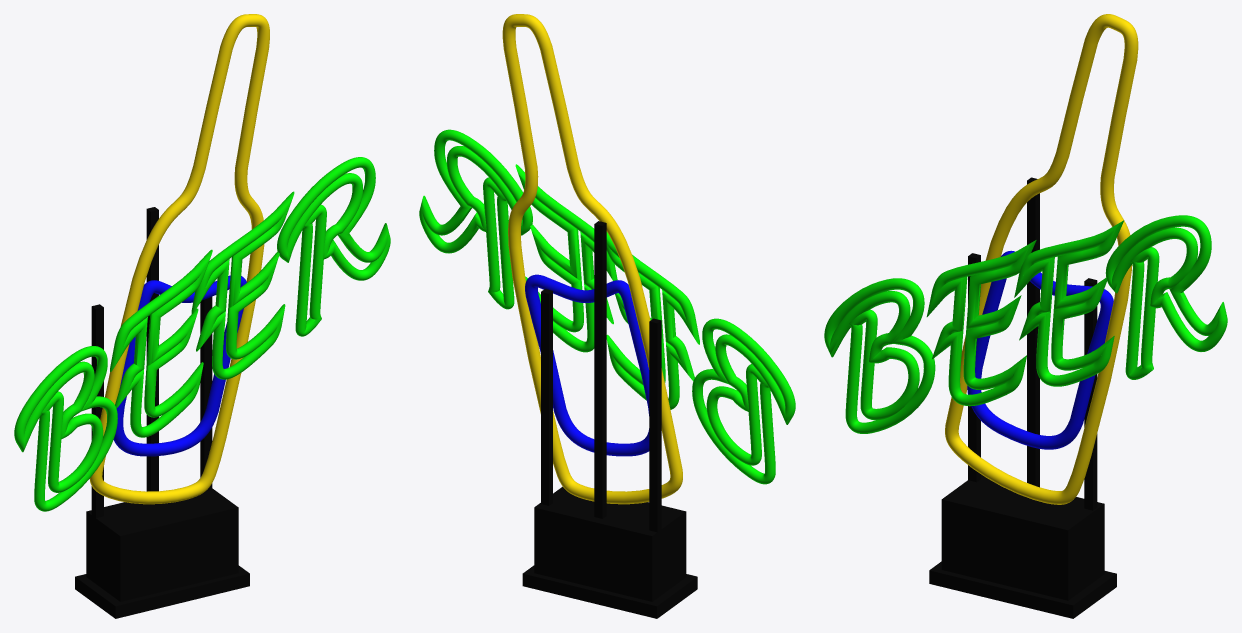
File: Beer_Neon_Sign.fbx
The picture shows the model from 3 angles, left to right: view 1: azimuth 30°, elevation 25°; view 2: azimuth 150°, elevation 25°; view 3: azimuth 330°, elevation 25°; orthographic projection. The views are drawn at different scales.
Visible parts, largest first — view 1: Sweep_NURBS, Cube, Sweep_NURBS_2, Sweep_NURBS_1, Cube_4, Cube_1, Cube_2, Cube_3; view 2: Sweep_NURBS, Sweep_NURBS_2, Cube, Sweep_NURBS_1, Cube_1, Cube_4, Cube_3, Cube_2; view 3: Sweep_NURBS, Cube, Sweep_NURBS_2, Sweep_NURBS_1, Cube_4, Cube_1, Cube_2, Cube_3.
Part boxes in pixels (x1,y1,x2,y2): Sweep_NURBS: (14, 157, 390, 511); Cube: (86, 488, 238, 601); Sweep_NURBS_2: (89, 14, 269, 504); Sweep_NURBS_1: (113, 275, 246, 456); Cube_4: (75, 565, 249, 618); Cube_1: (146, 207, 158, 504); Cube_2: (200, 296, 212, 491); Cube_3: (91, 304, 103, 556); Sweep_NURBS: (419, 129, 795, 484); Sweep_NURBS_2: (502, 14, 682, 504); Cube: (534, 486, 686, 601); Sweep_NURBS_1: (525, 274, 649, 456); Cube_1: (594, 221, 606, 518); Cube_4: (522, 565, 697, 618); Cube_3: (649, 318, 661, 570); Cube_2: (541, 289, 552, 505); Sweep_NURBS: (824, 215, 1227, 433); Cube: (941, 474, 1104, 600); Sweep_NURBS_2: (945, 14, 1138, 504); Sweep_NURBS_1: (967, 250, 1113, 449); Cube_4: (929, 561, 1116, 618); Cube_1: (1027, 177, 1039, 487); Cube_2: (1084, 278, 1097, 510); Cube_3: (968, 253, 980, 482).
Bounding box in the file's own units: 405 × 570 × 77.83.
